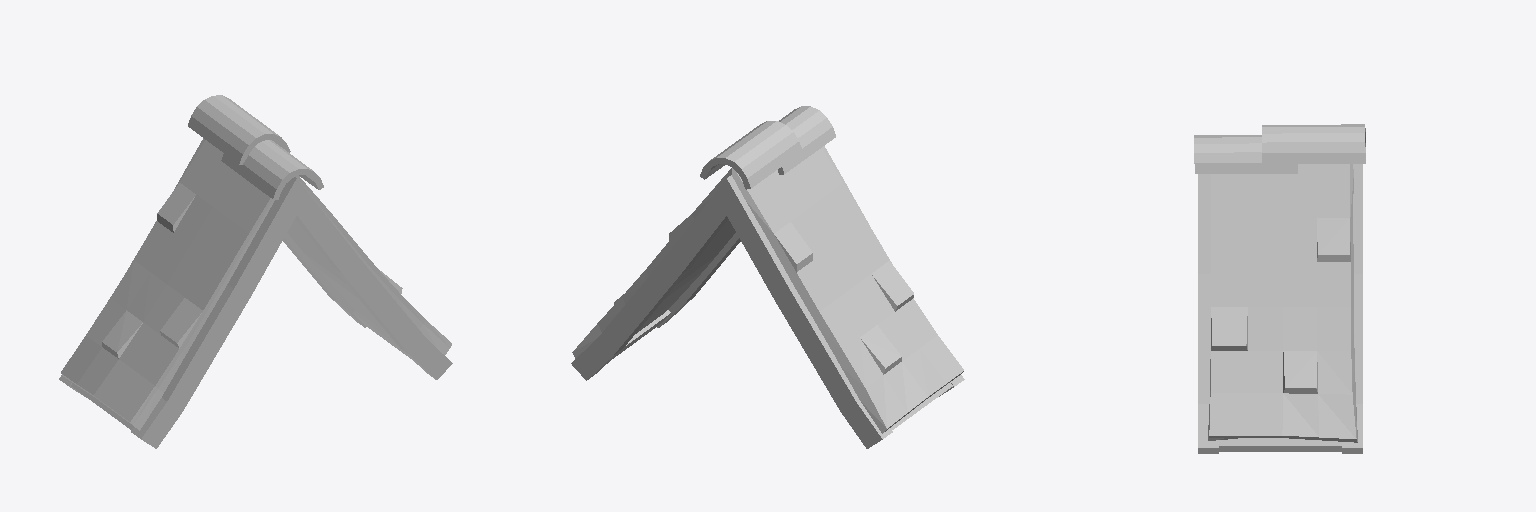
File: Roof_FlatTile_2x1_Long.obj
3 views of the same model, side by side, from view 1: azimuth 30°, elevation 25°; view 2: azimuth 150°, elevation 25°; view 3: azimuth 270°, elevation 25° (orthographic).
Visible parts, largest first — view 1: Roof_FlatTile_2x1_Long; view 2: Roof_FlatTile_2x1_Long; view 3: Roof_FlatTile_2x1_Long.
Boxes of the visible parts, x1,y1,x2,y2 form: Roof_FlatTile_2x1_Long: [59, 95, 452, 448]; Roof_FlatTile_2x1_Long: [571, 106, 964, 448]; Roof_FlatTile_2x1_Long: [1194, 124, 1365, 453].
Size of the model in its own units: 4.15 by 3.17 by 1.91.